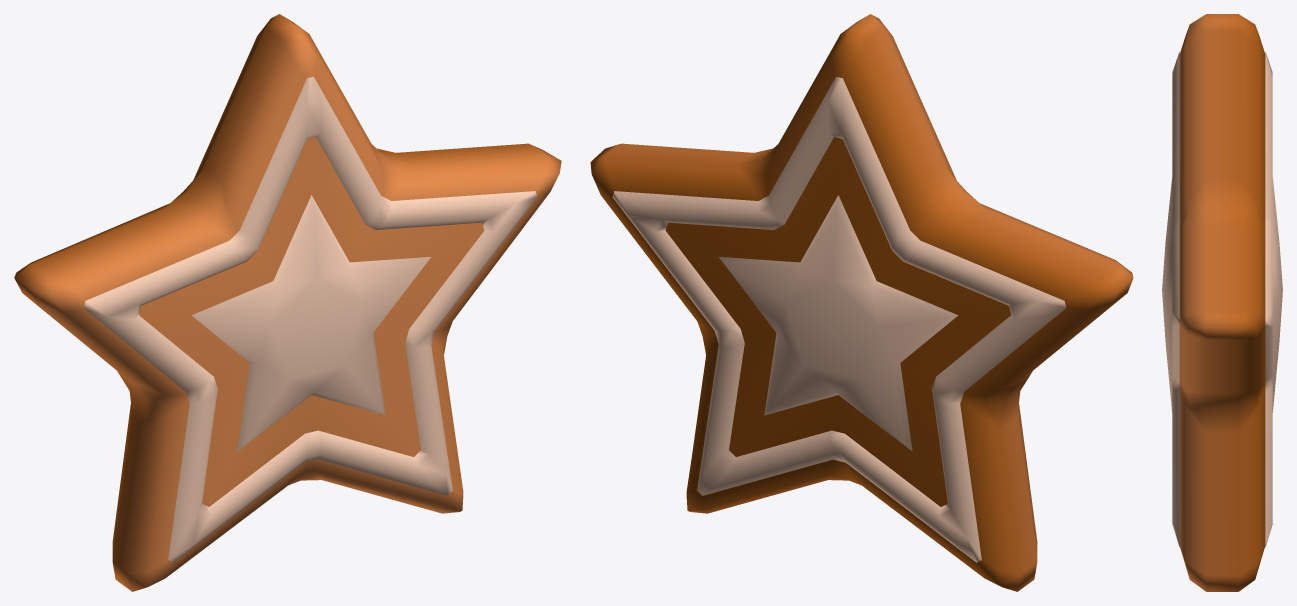
The model's file is CookieStar_01.glb.
3 renders of one model, left to right at view 1: azimuth 30°, elevation 25°; view 2: azimuth 150°, elevation 25°; view 3: azimuth 270°, elevation 25°, orthographic. The views are drawn at different scales.
Visible parts, largest first — view 1: CookieStar_01; view 2: CookieStar_01; view 3: CookieStar_01.
Part boxes in pixels (x1=…): CookieStar_01: x1=14, y1=14, x2=561, y2=591; CookieStar_01: x1=590, y1=14, x2=1133, y2=591; CookieStar_01: x1=1162, y1=14, x2=1282, y2=591.
Bounding box in the file's own units: 5.77 × 5.46 × 1.19.
Materials: 1 (1 with a texture image).
